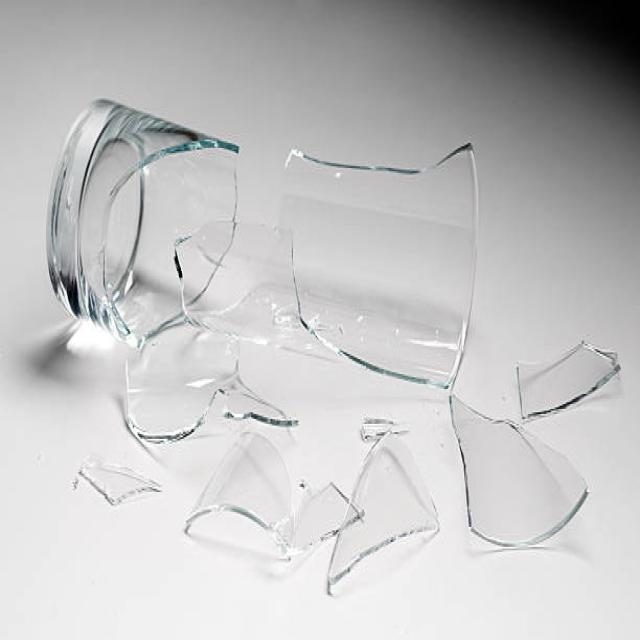PecahanKaca: (277, 141, 478, 385), (48, 93, 241, 344), (182, 412, 437, 584), (445, 388, 591, 550), (518, 336, 617, 420)
